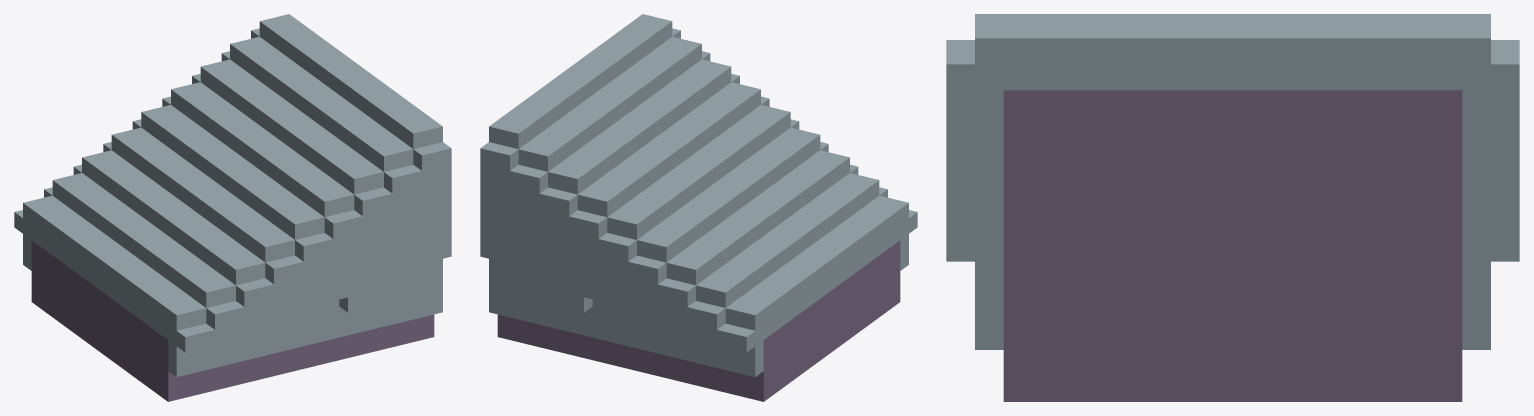
Rendered from Floors-11.obj.
The picture shows the model from 3 angles, left to right: view 1: azimuth 30°, elevation 25°; view 2: azimuth 150°, elevation 25°; view 3: azimuth 270°, elevation 25°; orthographic projection. The views are drawn at different scales.
Bounding box in the file's own units: 1.8 × 1.4 × 2.
